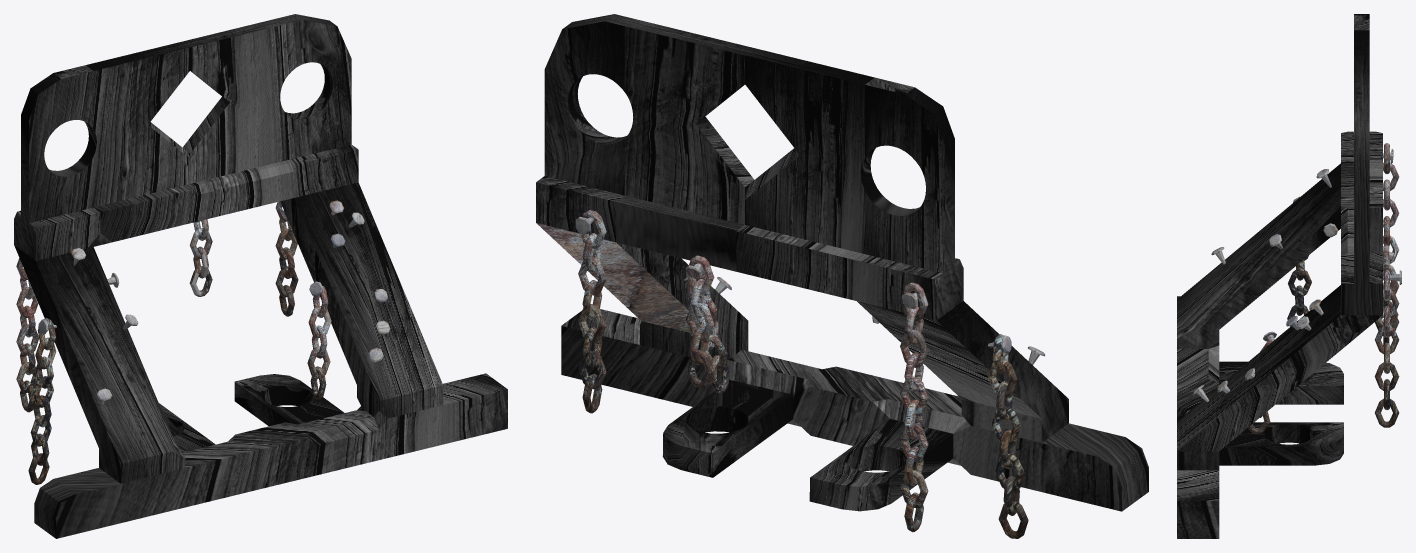
File: Pillory.fbx
3 views of the same model, side by side, from view 1: azimuth 30°, elevation 25°; view 2: azimuth 150°, elevation 25°; view 3: azimuth 270°, elevation 25° (orthographic). The views are drawn at different scales.
Parts seen in each view (by area): view 1: polySurfaceShape3; view 2: polySurfaceShape3; view 3: polySurfaceShape3.
Part boxes in pixels (x1,y1,x2,y2): polySurfaceShape3: (14,14,507,538); polySurfaceShape3: (536,14,1148,538); polySurfaceShape3: (1177,14,1401,538).
Size of the model in its own units: 11.97 by 9.42 by 5.34.
4 materials, 3 textured.
